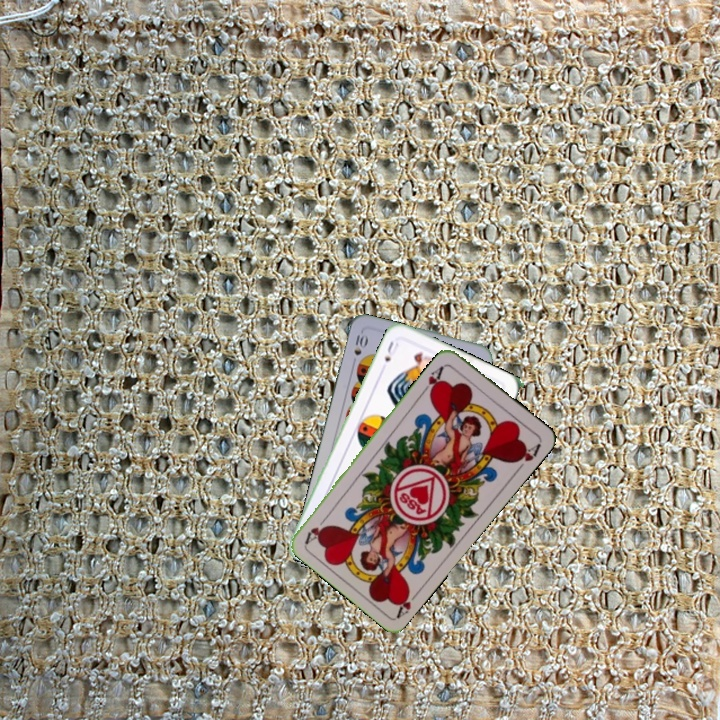HA: (418, 361, 448, 398), (392, 585, 423, 620)
S10: (348, 328, 370, 368)
SU: (380, 337, 401, 364)
